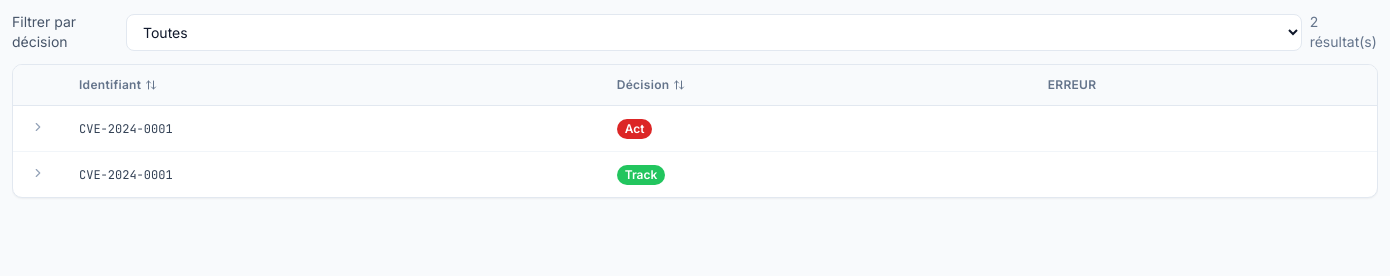
Test: BatchResultsTable › déplie indépendamment les lignes avec vuln_id dupliqués
Click the button named "Déplier CVE-2024-0001" in the row of "Act".
click(38, 127)  # box [29,118,47,136]
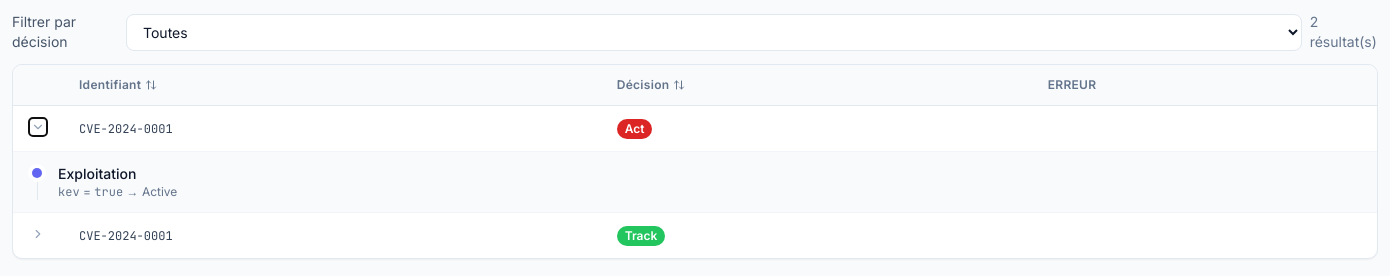
Check: the text "Exploitation" is shown, box [58,165,136,182]
